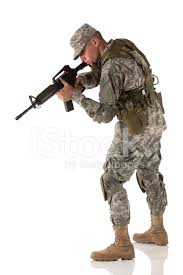rifle: (15, 62, 89, 121)
